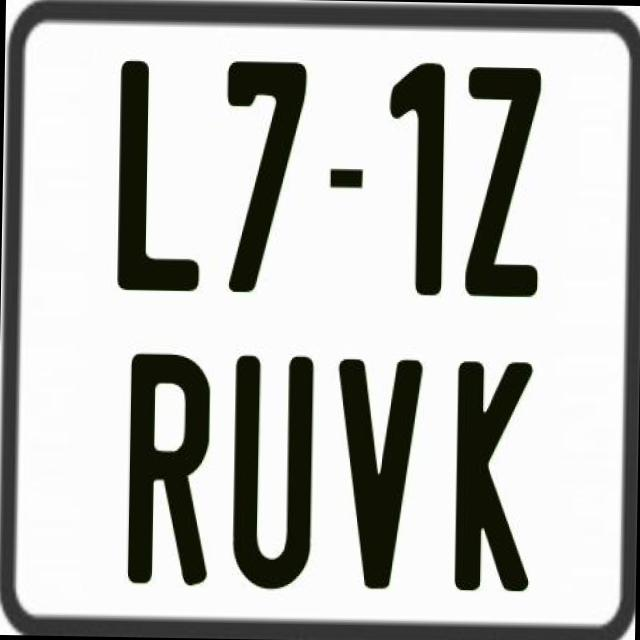1: (383, 62, 450, 295)
7: (220, 56, 308, 294)
K: (454, 360, 537, 596)
L: (113, 59, 203, 289)
R: (128, 350, 212, 586)
U: (231, 352, 317, 593)
V: (333, 354, 425, 586)
Z: (460, 62, 540, 298)
